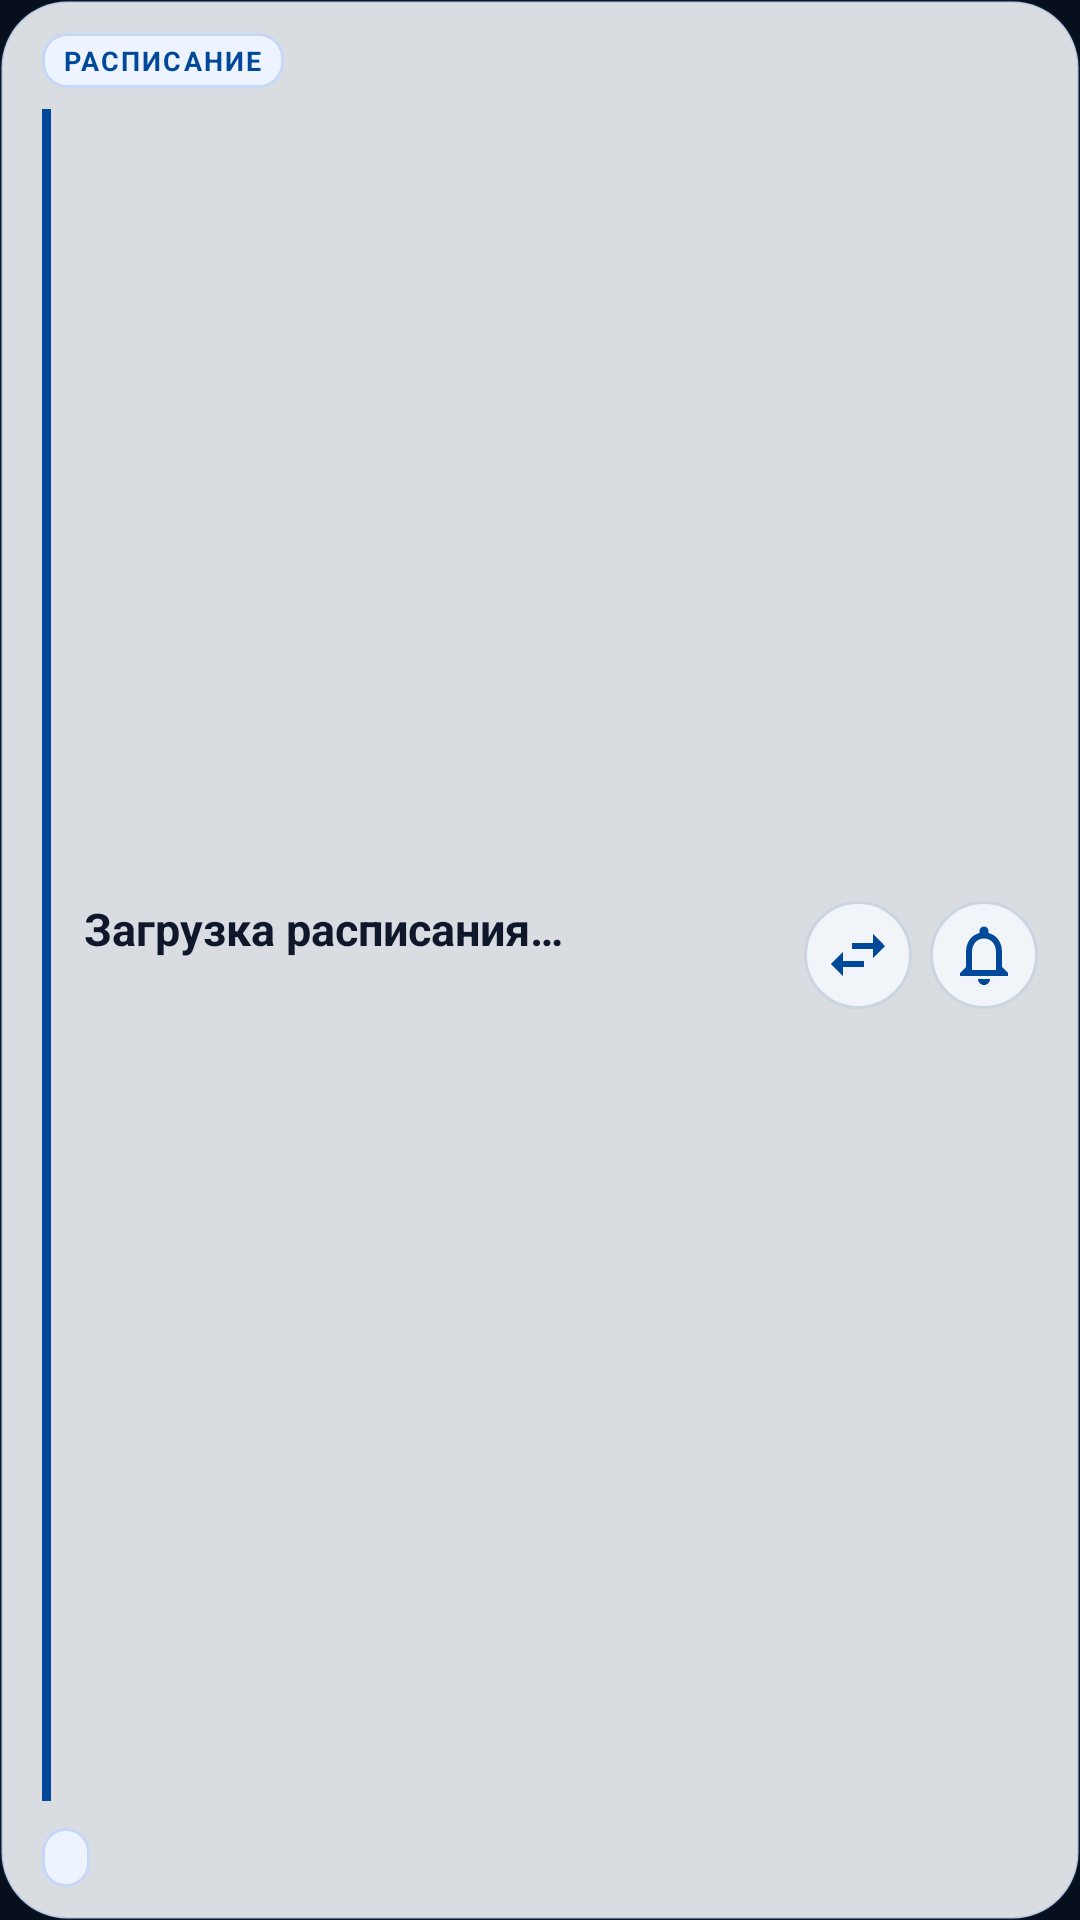

Locate icon controls on the screen. Image size 1080x1920, boxes as (x1, y1, x2, y2).
Настройка уведомлений: (933, 904, 1034, 1006)
Переключить режим пары: (807, 904, 908, 1006)
